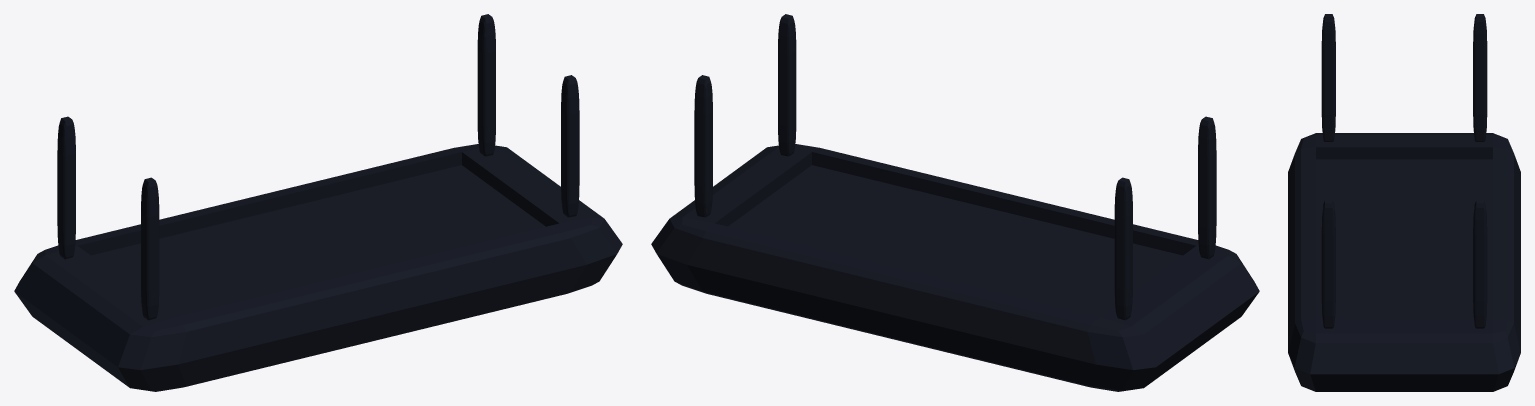
Rendered from Lamb.fbx.
3 renders of one model, left to right at view 1: azimuth 30°, elevation 25°; view 2: azimuth 150°, elevation 25°; view 3: azimuth 270°, elevation 25°, orthographic. The views are drawn at different scales.
Visible parts, largest first — view 1: Cube.001, Cube; view 2: Cube.001, Cube; view 3: Cube.001, Cube.
Part boxes in pixels (x1,y1,x2,y2): Cube.001: (14,144,622,391); Cube: (57,14,579,320); Cube.001: (651,144,1259,391); Cube: (694,14,1216,320); Cube.001: (1288,133,1520,391); Cube: (1321,14,1487,328).
Bounding box in the file's own units: 154 × 59.02 × 67.68.
